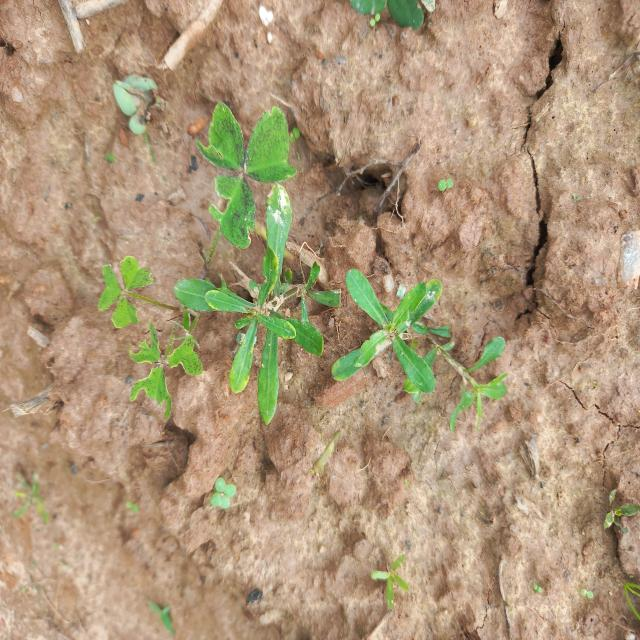weed: (112, 100, 568, 467)
